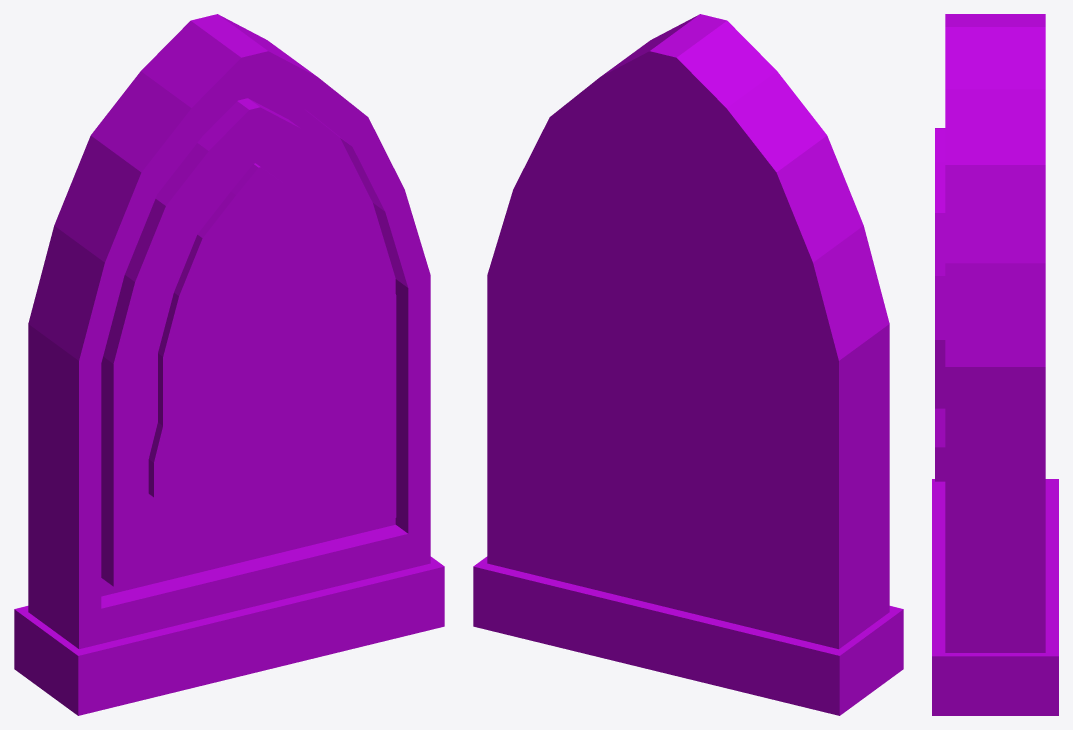
File: grave_LP.fbx
3 views of the same model, side by side, from view 1: azimuth 30°, elevation 25°; view 2: azimuth 150°, elevation 25°; view 3: azimuth 270°, elevation 25° (orthographic).
Parts seen in each view (by area): view 1: Grave mid; view 2: Grave mid; view 3: Grave mid.
Part boxes in pixels (x1=…): Grave mid: x1=14, y1=14, x2=444, y2=715; Grave mid: x1=473, y1=14, x2=903, y2=715; Grave mid: x1=932, y1=14, x2=1058, y2=715.
Size of the model in its own units: 62.54 by 99.79 by 18.91.
